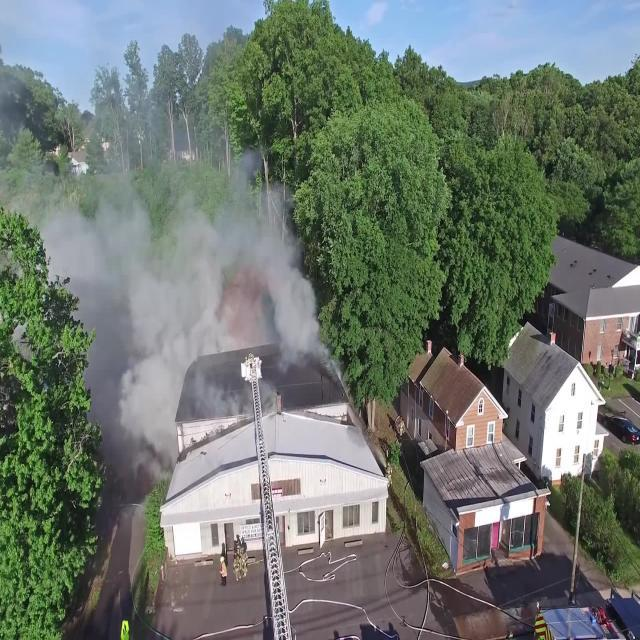Smoke: (101, 168, 312, 360)
